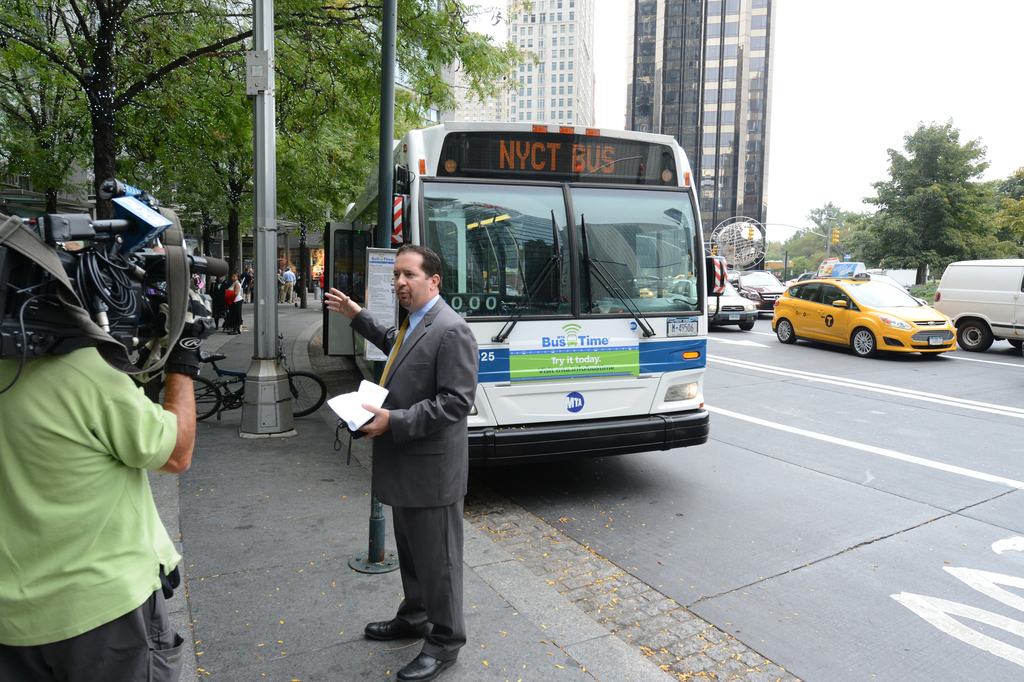Car: (770, 275, 960, 359), (720, 267, 789, 320), (705, 279, 757, 338)
